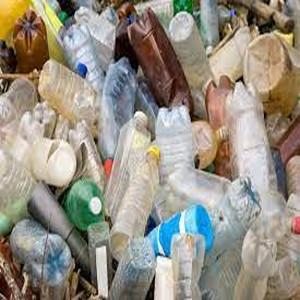Plastic: (110, 146, 159, 251), (6, 217, 72, 287), (101, 60, 138, 159)
